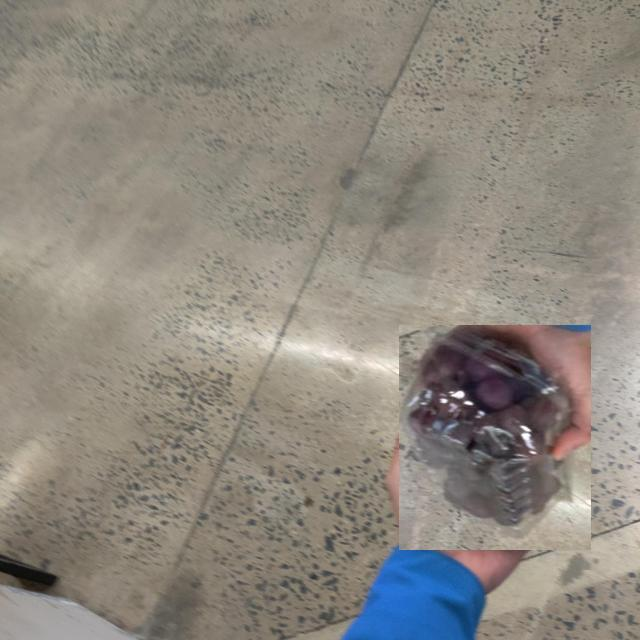Grapes: (398, 324, 591, 550)
